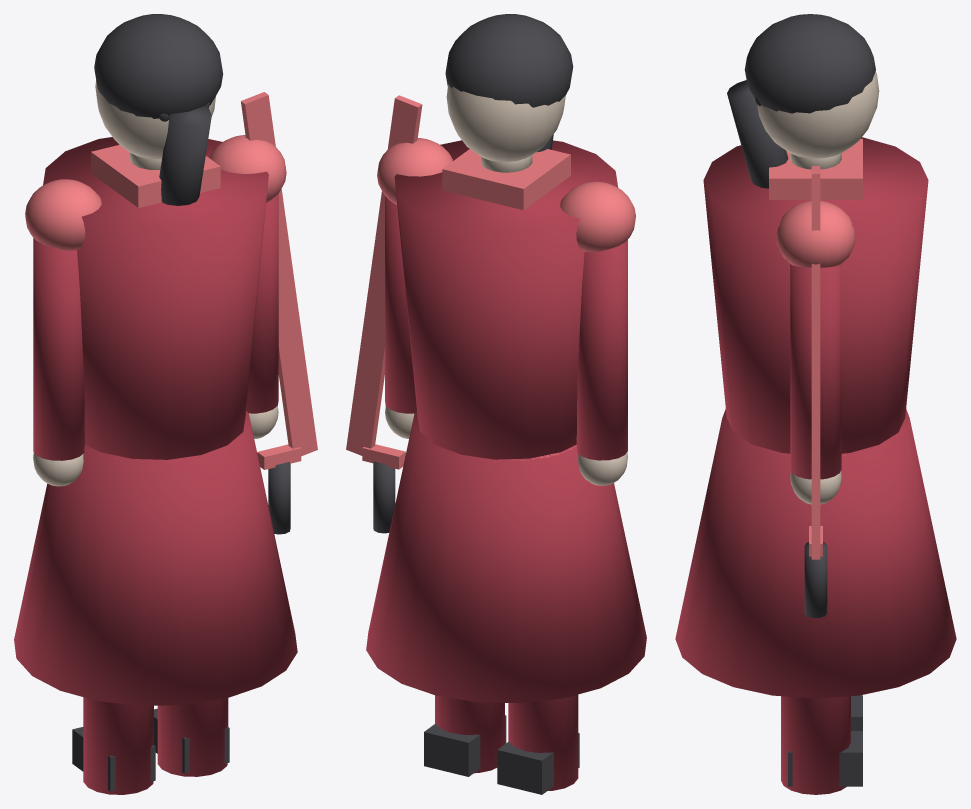
The model's file is liu-hongxiao.glb.
The picture shows the model from 3 angles, left to right: view 1: azimuth 30°, elevation 25°; view 2: azimuth 150°, elevation 25°; view 3: azimuth 270°, elevation 25°; orthographic projection.
Parts seen in each view (by area): view 1: liu-hongxiao_robe, liu-hongxiao_torso, liu-hongxiao_hair, liu-hongxiao_arm-0.235, liu-hongxiao_blade, liu-hongxiao_leg-0.09, liu-hongxiao_arm0.235, liu-hongxiao_leg0.09, liu-hongxiao_shoulder-0.22, liu-hongxiao_pigtail, liu-hongxiao_collar, liu-hongxiao_head (+7 smaller); view 2: liu-hongxiao_robe, liu-hongxiao_torso, liu-hongxiao_arm-0.235, liu-hongxiao_hair, liu-hongxiao_blade, liu-hongxiao_head, liu-hongxiao_collar, liu-hongxiao_arm0.235, liu-hongxiao_leg-0.09, liu-hongxiao_shoulder-0.22, liu-hongxiao_leg0.09, liu-hongxiao_shoulder0.22 (+7 smaller); view 3: liu-hongxiao_robe, liu-hongxiao_torso, liu-hongxiao_hair, liu-hongxiao_arm0.235, liu-hongxiao_leg0.09, liu-hongxiao_head, liu-hongxiao_shoulder0.22, liu-hongxiao_blade, liu-hongxiao_collar, liu-hongxiao_pigtail, liu-hongxiao_grip, liu-hongxiao_boot0.09 (+2 smaller).
Part boxes in pixels (x1,y1,x2,y2): liu-hongxiao_robe: [14, 411, 297, 705]; liu-hongxiao_torso: [43, 137, 268, 459]; liu-hongxiao_hair: [94, 14, 223, 118]; liu-hongxiao_arm-0.235: [33, 238, 84, 460]; liu-hongxiao_blade: [241, 92, 317, 456]; liu-hongxiao_leg-0.09: [83, 697, 153, 794]; liu-hongxiao_arm0.235: [246, 194, 278, 413]; liu-hongxiao_leg0.09: [157, 698, 228, 776]; liu-hongxiao_shoulder-0.22: [25, 179, 101, 250]; liu-hongxiao_pigtail: [159, 105, 211, 205]; liu-hongxiao_collar: [91, 145, 220, 207]; liu-hongxiao_head: [95, 80, 215, 159]; liu-hongxiao_robe: [366, 411, 646, 703]; liu-hongxiao_torso: [394, 140, 618, 459]; liu-hongxiao_arm-0.235: [576, 239, 627, 460]; liu-hongxiao_hair: [445, 14, 573, 107]; liu-hongxiao_blade: [346, 95, 422, 455]; liu-hongxiao_head: [446, 84, 565, 161]; liu-hongxiao_collar: [442, 149, 570, 210]; liu-hongxiao_arm0.235: [385, 196, 416, 413]; liu-hongxiao_leg-0.09: [508, 694, 578, 790]; liu-hongxiao_shoulder-0.22: [560, 181, 635, 252]; liu-hongxiao_leg0.09: [435, 695, 504, 773]; liu-hongxiao_shoulder0.22: [377, 138, 452, 204]; liu-hongxiao_robe: [675, 409, 956, 698]; liu-hongxiao_torso: [703, 137, 928, 453]; liu-hongxiao_hair: [744, 14, 875, 113]; liu-hongxiao_arm0.235: [790, 264, 841, 479]; liu-hongxiao_leg0.09: [781, 696, 850, 794]; liu-hongxiao_head: [757, 71, 879, 158]; liu-hongxiao_shoulder0.22: [776, 200, 855, 267]; liu-hongxiao_blade: [811, 166, 820, 559]; liu-hongxiao_collar: [769, 139, 862, 199]; liu-hongxiao_pigtail: [727, 80, 788, 188]; liu-hongxiao_grip: [804, 542, 827, 617]; liu-hongxiao_boot0.09: [788, 731, 862, 786].
Size of the model in its own units: 0.6936 by 1.74 by 0.6.
